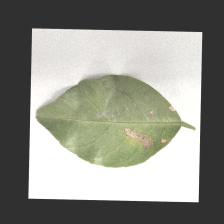canker: (114, 118, 173, 158)
